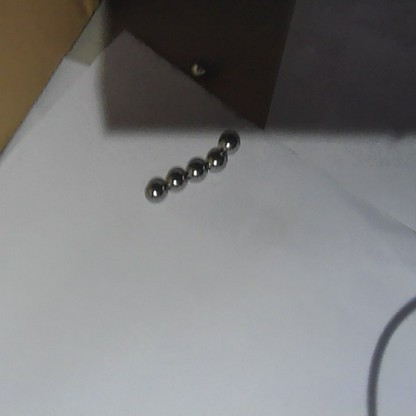ironball: (215, 129, 246, 155), (141, 175, 166, 205), (204, 145, 228, 172), (164, 166, 186, 194), (186, 156, 205, 184), (189, 55, 207, 78)
